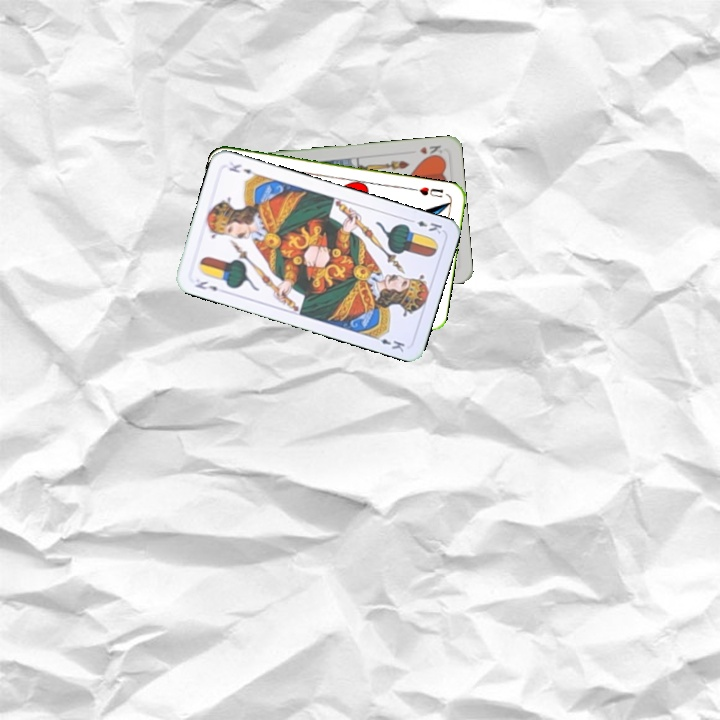EK: (404, 215, 445, 236), (191, 277, 220, 294)
HK: (416, 141, 444, 161)
HU: (410, 183, 446, 200)
